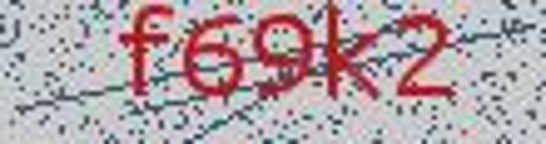2: (390, 4, 460, 119)
6: (180, 3, 247, 117)
9: (247, 2, 318, 118)
f: (108, 1, 180, 122)
k: (321, 1, 388, 114)
